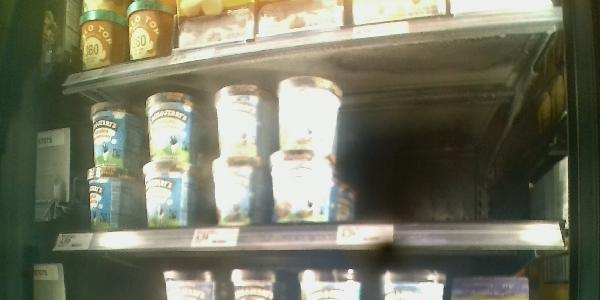icecream1: (273, 73, 349, 154), (209, 81, 277, 165), (268, 149, 334, 226), (143, 89, 206, 164), (83, 99, 144, 173), (206, 155, 270, 225), (140, 158, 195, 230), (84, 165, 139, 233)
